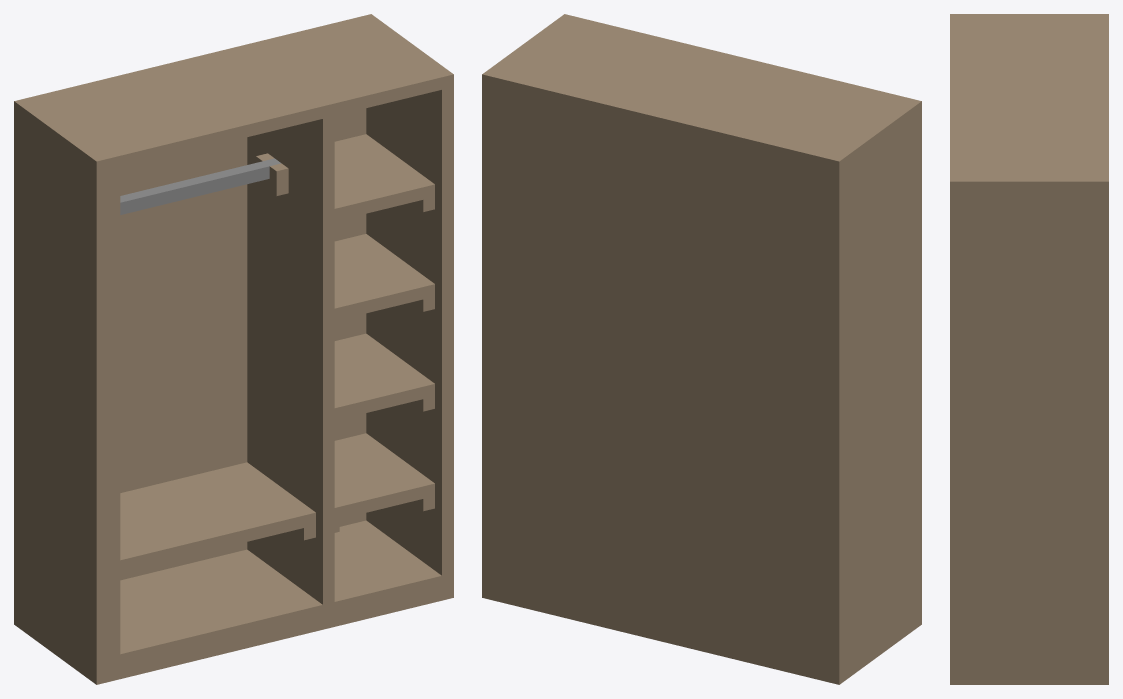
File: Wardrobe00-Base.gltf
The picture shows the model from 3 angles, left to right: view 1: azimuth 30°, elevation 25°; view 2: azimuth 150°, elevation 25°; view 3: azimuth 270°, elevation 25°; orthographic projection. The views are drawn at different scales.
Size of the model in its own units: 30 by 42 by 12.
